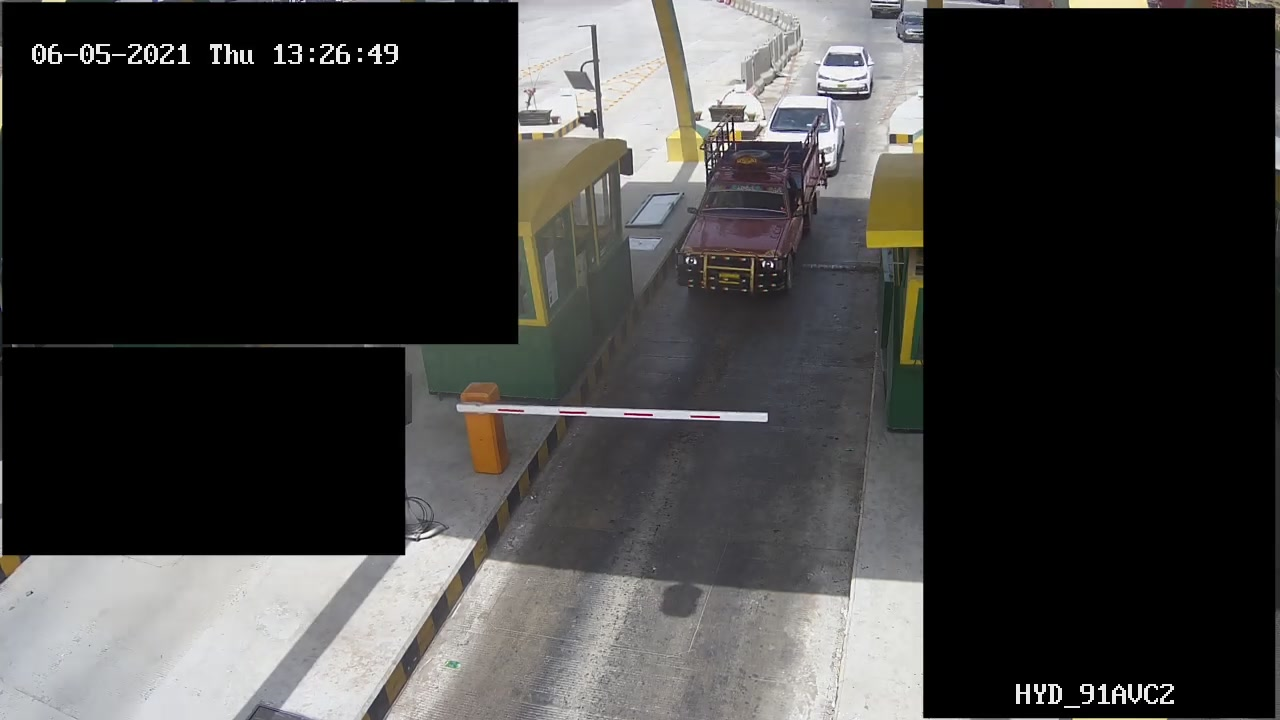F1: (665, 107, 828, 311)
